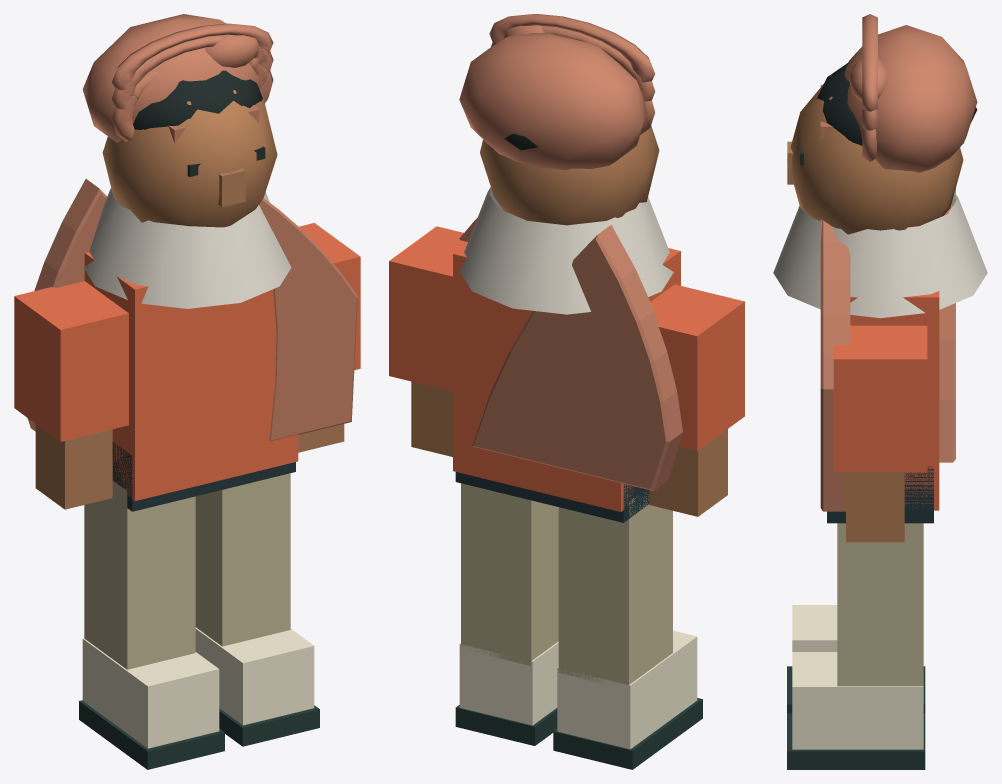
Rendered from female-tudung-turban.glb.
3 renders of one model, left to right at view 1: azimuth 30°, elevation 25°; view 2: azimuth 150°, elevation 25°; view 3: azimuth 270°, elevation 25°, orthographic. The views are drawn at different scales.
Parts seen in each view (by area): view 1: female-tudung-turban, tudung-neck-wrap, tudung-turban-scarf, avatar-tudung, tudung-turban-back; view 2: female-tudung-turban, tudung-turban-back, avatar-tudung, tudung-neck-wrap; view 3: female-tudung-turban, avatar-tudung, tudung-neck-wrap, tudung-turban-scarf, tudung-turban-back.
Part boxes in pixels (x1,y1,x2,y2): female-tudung-turban: (14, 70, 360, 769); tudung-neck-wrap: (84, 188, 291, 308); tudung-turban-scarf: (259, 198, 357, 441); avatar-tudung: (82, 14, 273, 143); tudung-turban-back: (27, 179, 107, 431); female-tudung-turban: (389, 125, 744, 769); tudung-turban-back: (472, 224, 682, 491); avatar-tudung: (459, 14, 655, 169); tudung-neck-wrap: (460, 187, 673, 314); female-tudung-turban: (787, 61, 977, 769); avatar-tudung: (820, 14, 977, 172); tudung-neck-wrap: (773, 192, 987, 318); tudung-turban-scarf: (820, 219, 850, 511); tudung-turban-back: (939, 188, 955, 462).
Size of the model in its own units: 1.01 by 2.22 by 0.62.
